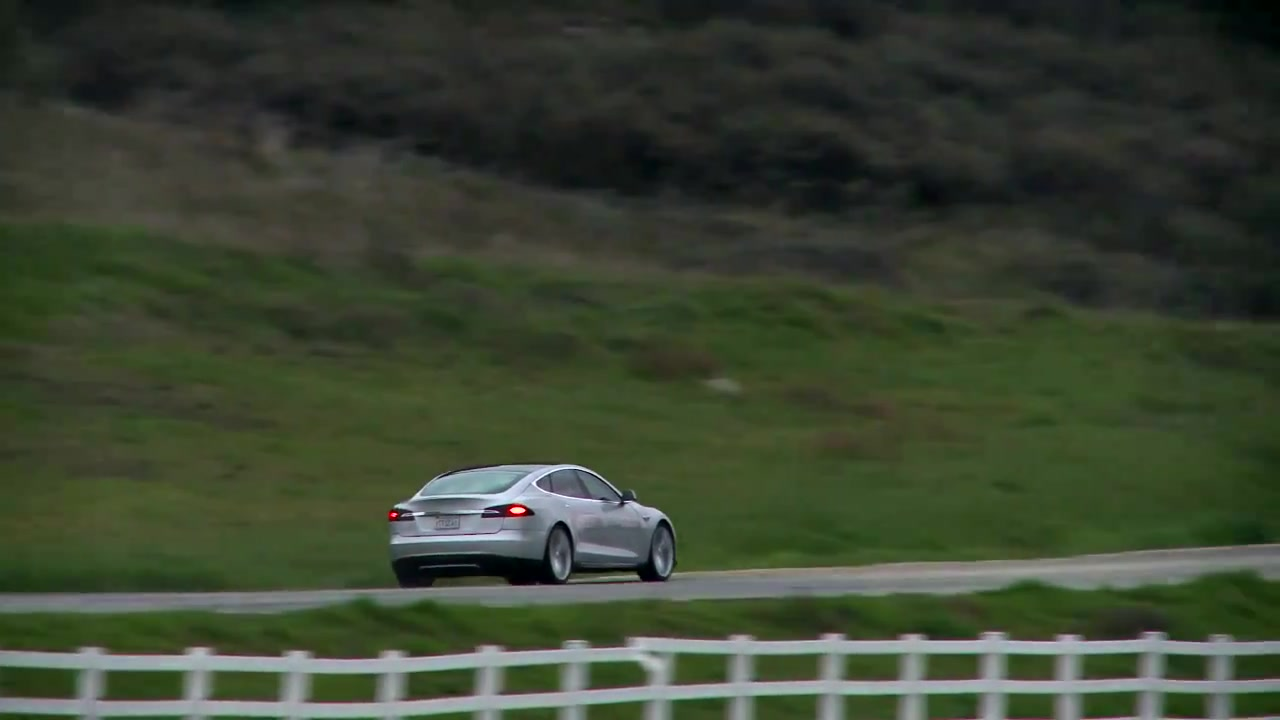car: (384, 462, 683, 594)
